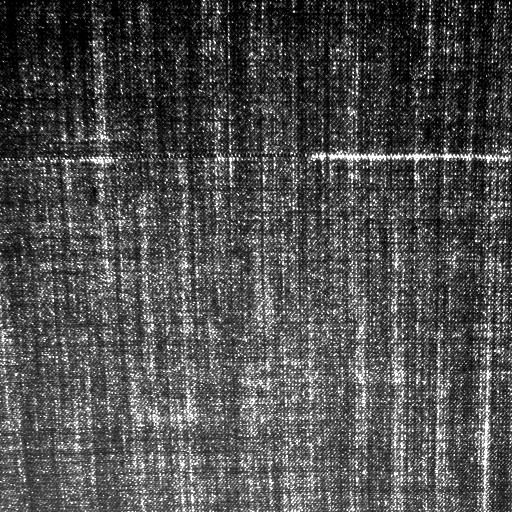fabric_broken_pick: (5, 146, 511, 172)
